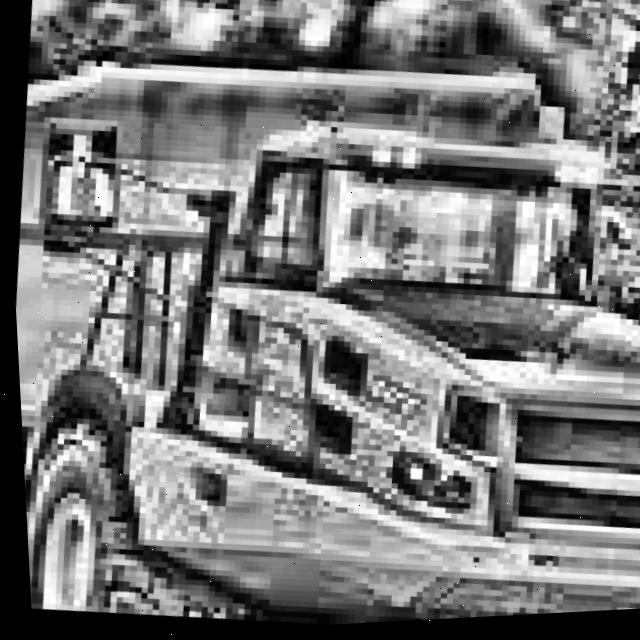dump_truck: (2, 16, 640, 640)
